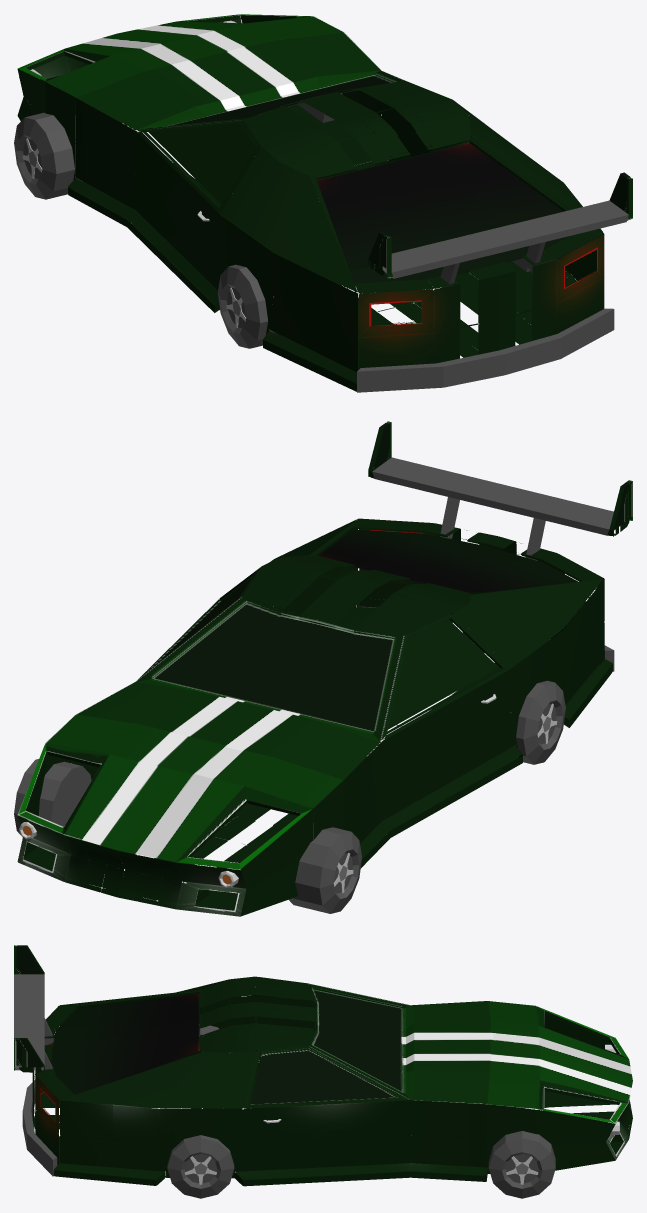
Rendered from car.fbx.
3 views of the same model, one above another, from view 1: azimuth 30°, elevation 25°; view 2: azimuth 150°, elevation 25°; view 3: azimuth 270°, elevation 25° (orthographic). The views are drawn at different scales.
Parts seen in each view (by area): view 1: Carrozzeria, Alettone_posteriore, Parafango_posteriore, Pneumatico.001, Pneumatico.003; view 2: Carrozzeria, Alettone_posteriore, Pneumatico.001, Pneumatico.003, Pneumatico; view 3: Carrozzeria, Alettone_posteriore, Pneumatico, Pneumatico.002, Parafango_posteriore.
Boxes of the visible parts, x1,y1,x2,y2 form: Carrozzeria: [17, 14, 604, 391]; Alettone_posteriore: [368, 172, 632, 287]; Parafango_posteriore: [357, 308, 614, 392]; Pneumatico.001: [14, 112, 82, 199]; Pneumatico.003: [217, 264, 276, 348]; Carrozzeria: [17, 518, 612, 916]; Alettone_posteriore: [368, 421, 632, 560]; Pneumatico.001: [289, 823, 361, 913]; Pneumatico.003: [508, 680, 565, 764]; Pneumatico: [14, 759, 91, 837]; Carrozzeria: [32, 976, 632, 1186]; Alettone_posteriore: [14, 945, 54, 1074]; Pneumatico: [488, 1131, 555, 1198]; Pneumatico.002: [167, 1135, 234, 1198]; Parafango_posteriore: [22, 1079, 57, 1176].
Bounding box in the file's own units: 1.77 × 0.9964 × 3.79.
